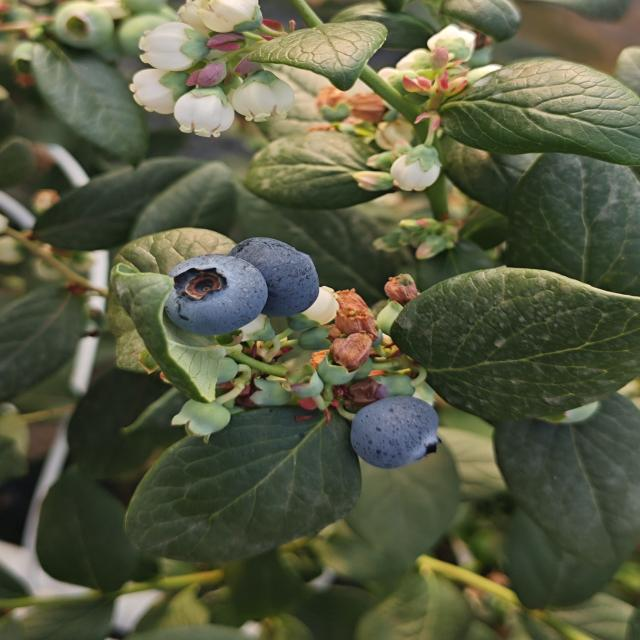ripe: (155, 254, 270, 340), (226, 236, 322, 320), (347, 394, 442, 471)
